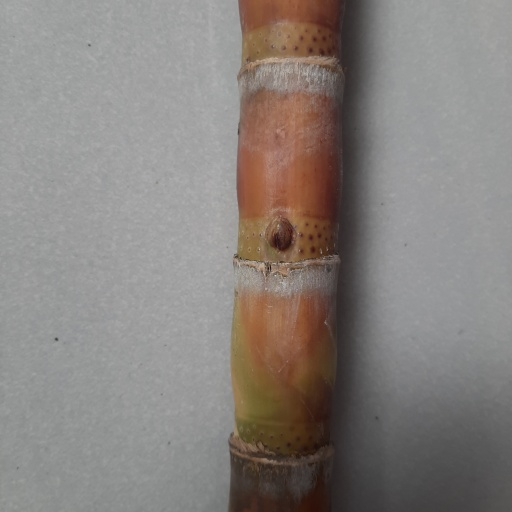Bud: (267, 215, 294, 253)
